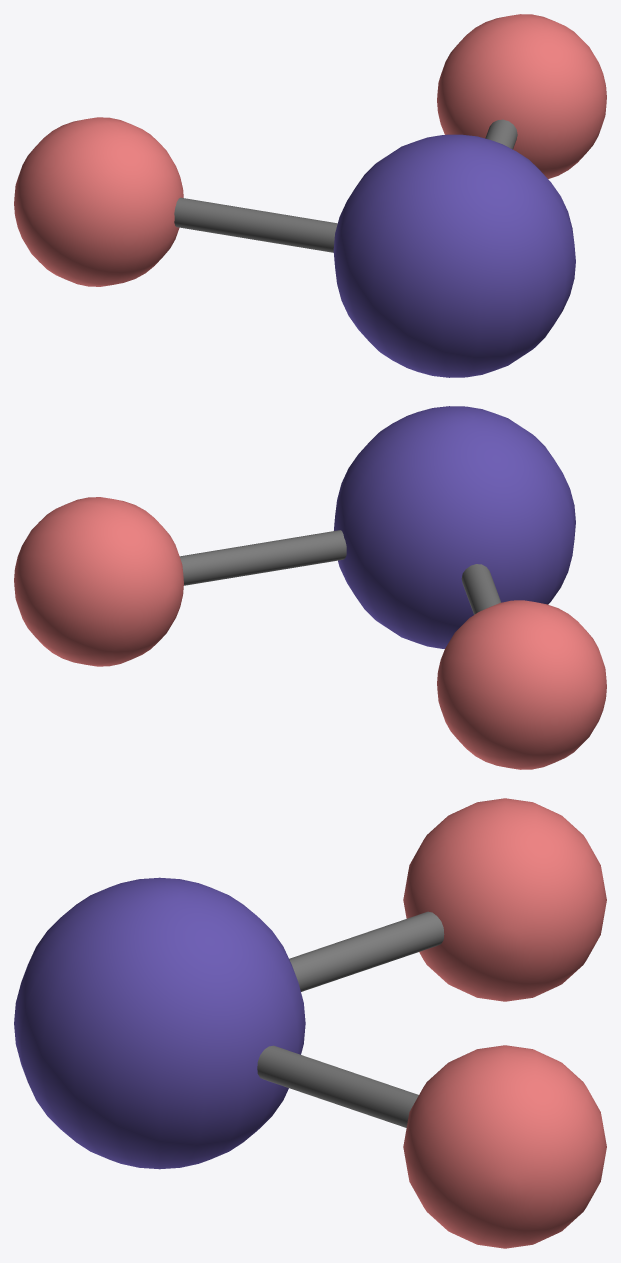
Rendered from MgF2.fbx.
3 views of the same model, one above another, from view 1: azimuth 30°, elevation 25°; view 2: azimuth 150°, elevation 25°; view 3: azimuth 270°, elevation 25° (orthographic). The views are drawn at different scales.
Parts seen in each view (by area): view 1: MgF2; view 2: MgF2; view 3: MgF2.
Part boxes in pixels (x1,y1,x2,y2): MgF2: (14,14,606,377); MgF2: (14,406,606,769); MgF2: (14,798,606,1248).
Bounding box in the file's own units: 7.15 × 2.65 × 5.38.
